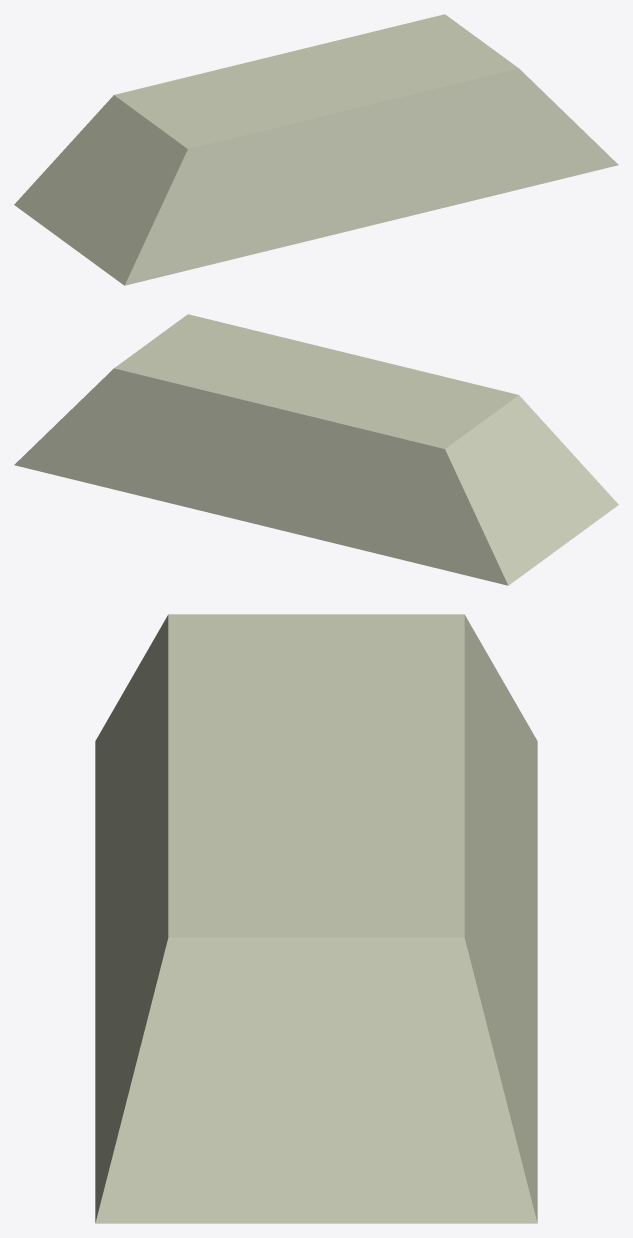
File: Low_Poly_Iron_Ingot.fbx
3 views of the same model, one above another, from view 1: azimuth 30°, elevation 25°; view 2: azimuth 150°, elevation 25°; view 3: azimuth 270°, elevation 25° (orthographic). The views are drawn at different scales.
Parts seen in each view (by area): view 1: IronIngot; view 2: IronIngot; view 3: IronIngot.
Boxes of the visible parts, box(x1,y1,x2,y2) form: IronIngot: box(14, 14, 618, 285); IronIngot: box(14, 314, 618, 585); IronIngot: box(95, 614, 537, 1223).
Bounding box in the file's own units: 240 × 47.9 × 92.9.
